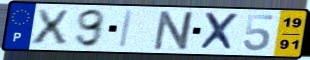5: (241, 13, 275, 52)
9: (72, 8, 108, 49)
I: (117, 9, 136, 49)
N: (151, 10, 199, 52)
X: (197, 11, 241, 52), (30, 8, 71, 46)
